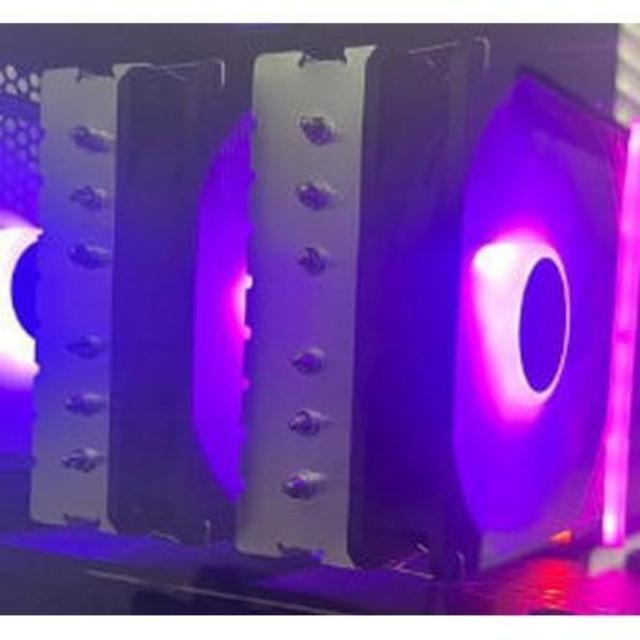CPU_Fan: (43, 51, 608, 584)
